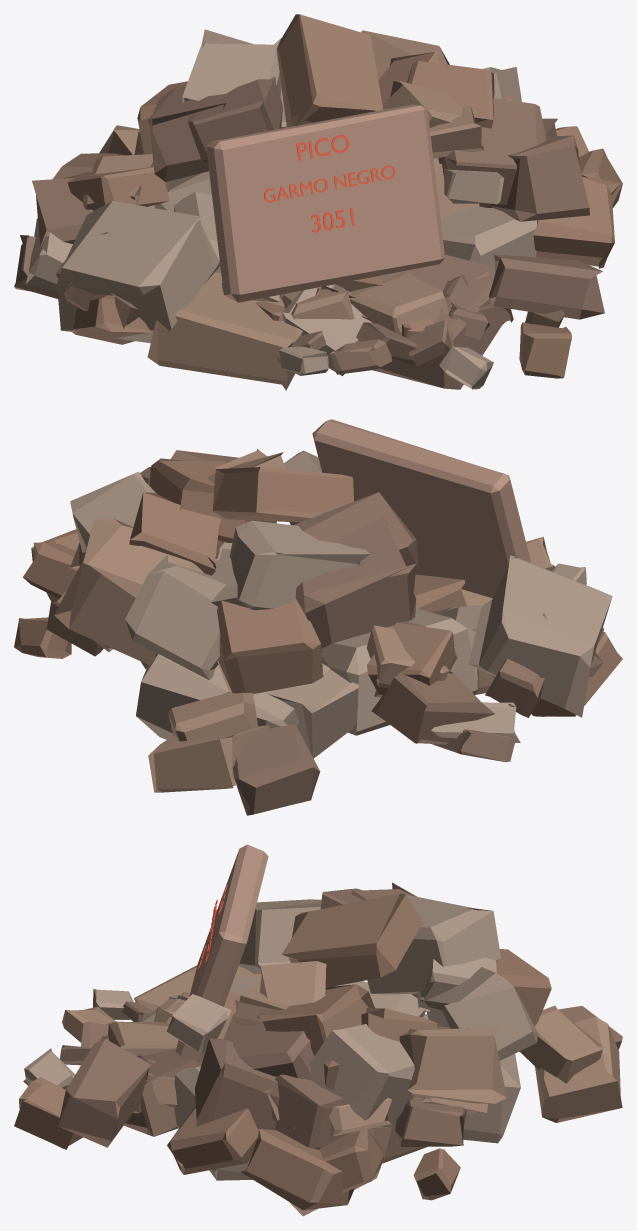
File: cima-garmo.glb
The picture shows the model from 3 angles, top to bottom: view 1: azimuth 30°, elevation 25°; view 2: azimuth 150°, elevation 25°; view 3: azimuth 270°, elevation 25°; orthographic projection. The views are drawn at different scales.
Visible parts, largest first — view 1: laja_roca, bloque63, base5, bloque44, bloque24, bloque64, base7, bloque5, bloque30, bloque62, base8, bloque2 (+34 smaller); view 2: laja_roca, bloque63, bloque2, bloque28, bloque33, bloque45, bloque62, bloque44, bloque17, base2, bloque52, bloque23 (+23 smaller); view 3: bloque44, bloque28, bloque36, bloque62, bloque24, laja_roca, bloque45, bloque20, bloque64, bloque23, bloque30, bloque1 (+30 smaller).
Boxes of the visible parts, x1,y1,x2,y2 form: laja_roca: (206, 104, 444, 302); bloque63: (57, 200, 220, 343); base5: (147, 272, 302, 390); bloque44: (276, 14, 383, 127); bloque24: (489, 254, 604, 319); bloque64: (479, 135, 589, 221); base7: (354, 254, 505, 389); bloque5: (441, 98, 546, 204); bloque30: (533, 176, 620, 268); bloque62: (181, 29, 281, 103); base8: (440, 205, 542, 267); bloque2: (148, 86, 232, 181); laja_roca: (312, 419, 530, 598); bloque63: (469, 555, 612, 717); bloque2: (295, 517, 416, 648); bloque28: (54, 518, 203, 664); bloque33: (217, 600, 323, 693); bloque45: (125, 554, 226, 680); bloque62: (229, 520, 369, 610); bloque44: (212, 467, 353, 522); bloque17: (233, 724, 320, 815); base2: (136, 654, 330, 739); bloque52: (371, 671, 494, 744); bloque23: (148, 725, 268, 792); bloque44: (281, 893, 423, 987); bloque28: (399, 1026, 506, 1103); bloque36: (309, 1024, 414, 1127); bloque62: (367, 895, 500, 994); bloque24: (58, 1039, 151, 1147); laja_roca: (175, 844, 268, 1061); bloque45: (419, 967, 538, 1060); bloque20: (240, 1128, 354, 1210); bloque64: (195, 1038, 279, 1130); bloque23: (535, 1017, 622, 1122); bloque30: (167, 1106, 258, 1174); bloque1: (259, 984, 374, 1055).
Bounding box in the file's own units: 2.01 × 0.9147 × 2.03.
